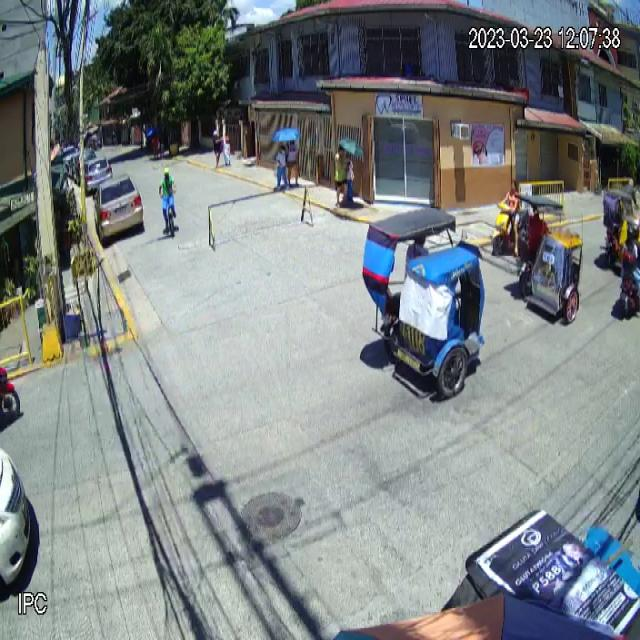Car: (94, 172, 144, 244)
Tricycle: (366, 206, 486, 398), (512, 194, 585, 326)
